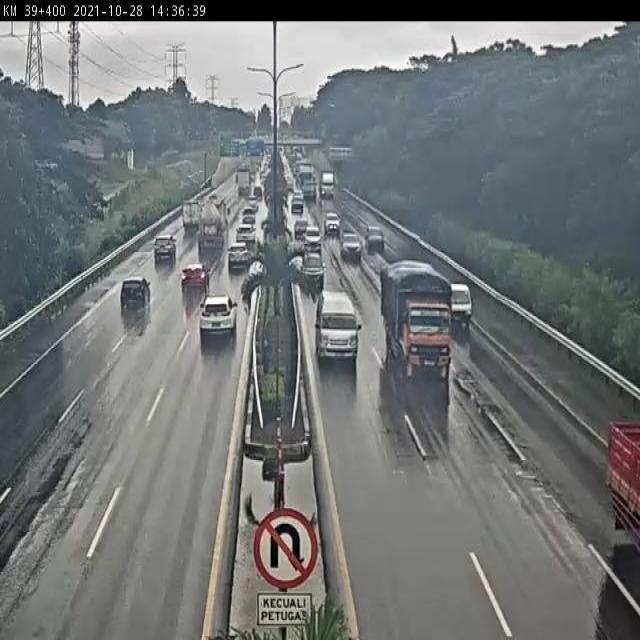Car: (199, 295, 239, 339), (449, 283, 473, 335), (120, 276, 152, 310), (301, 250, 325, 293), (180, 263, 211, 295), (153, 234, 177, 264), (227, 242, 250, 271), (340, 229, 362, 259), (365, 225, 385, 254), (236, 224, 256, 247), (304, 226, 322, 250), (324, 212, 340, 234), (294, 218, 308, 240), (290, 194, 304, 214), (242, 207, 256, 225), (252, 182, 263, 200)
Truck: (378, 258, 456, 380), (604, 415, 640, 553), (198, 198, 224, 257), (204, 197, 230, 230), (182, 199, 201, 233), (318, 171, 336, 198), (298, 164, 315, 190), (237, 168, 251, 193), (302, 181, 316, 200), (182, 203, 190, 224)
Van: (314, 289, 360, 366)
